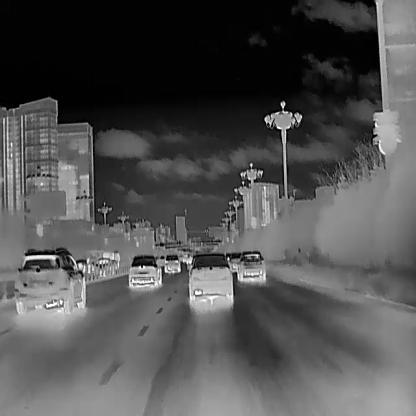car: (15, 246, 85, 313), (189, 255, 232, 306), (128, 254, 161, 288), (235, 249, 266, 282), (226, 250, 247, 270), (165, 253, 181, 273), (95, 258, 112, 276)
